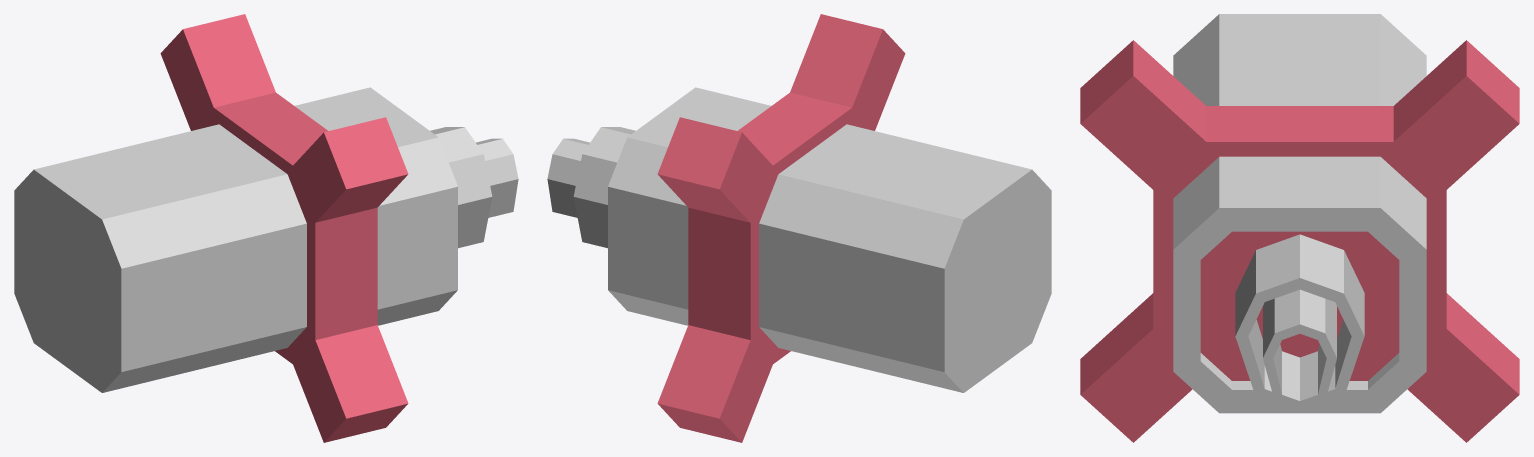
The model's file is Turret-Gun.glb.
3 renders of one model, left to right at view 1: azimuth 30°, elevation 25°; view 2: azimuth 150°, elevation 25°; view 3: azimuth 270°, elevation 25°, orthographic. The views are drawn at different scales.
Visible parts, largest first — view 1: Cube; view 2: Cube; view 3: Cube.
Part boxes in pixels (x1,y1,x2,y2): Cube: [14, 14, 518, 442]; Cube: [547, 14, 1051, 442]; Cube: [1080, 14, 1519, 442].
Bounding box in the file's own units: 1.15 × 0.7854 × 0.8515.
